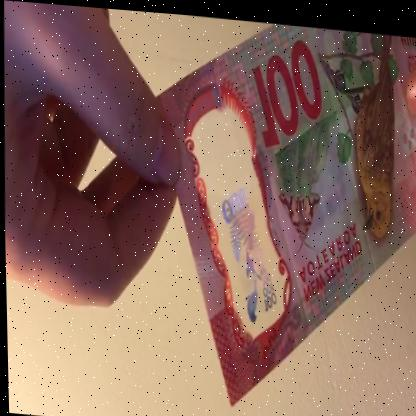100B: (211, 148, 279, 325)
